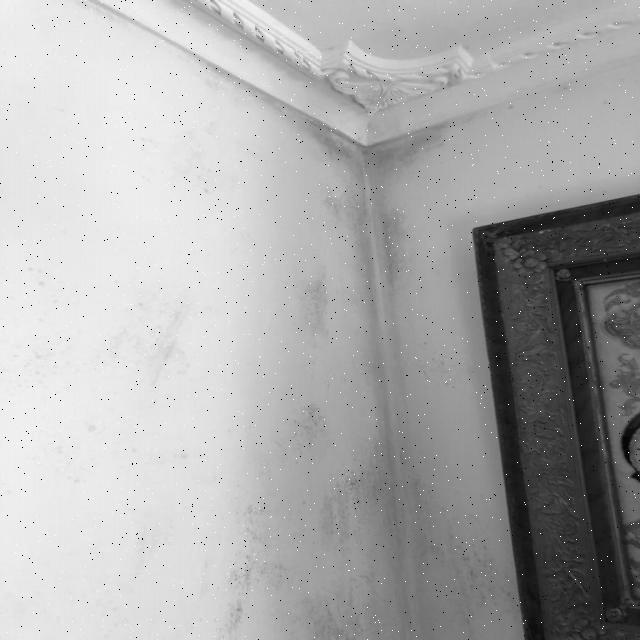stain marks: (228, 77, 522, 640), (0, 266, 208, 445)
